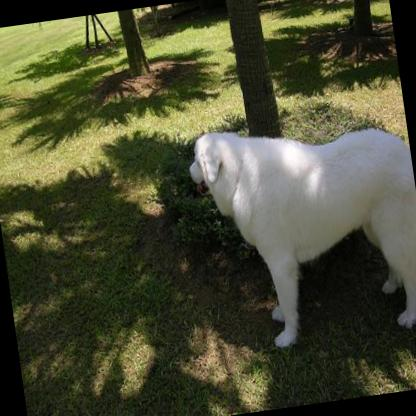Great_Pyrenees: (181, 103, 416, 356)
